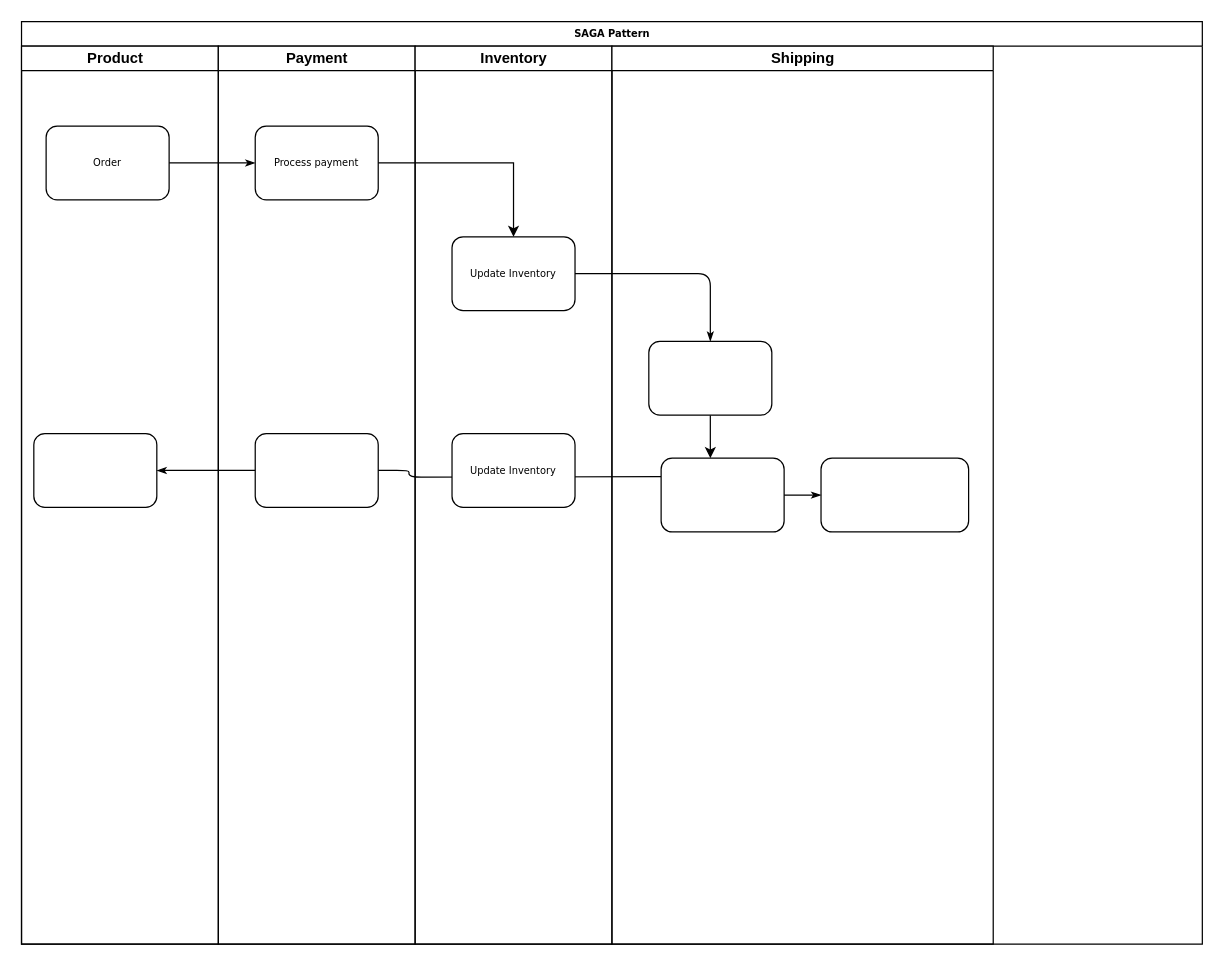
The diagram is 1224 pixels wide and 966 high, and some of its shapes have lost their labels. Each missing label, with the centre of its shape:
Cancel Order: pixel 95 469
Cancel shipping: pixel 722 494
Credit Payment: pixel 316 469
END: pixel 894 494
Update Shipping: pixel 710 377
